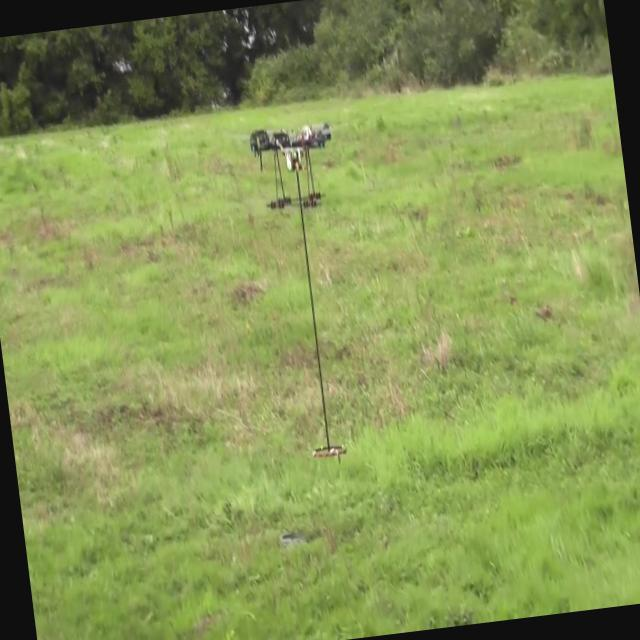drone: (235, 112, 348, 217)
